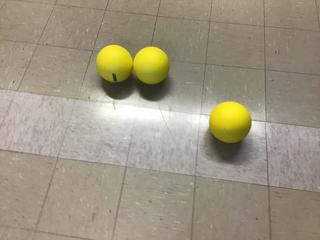power_cell: (206, 99, 255, 149), (131, 43, 170, 89), (94, 43, 133, 84)
